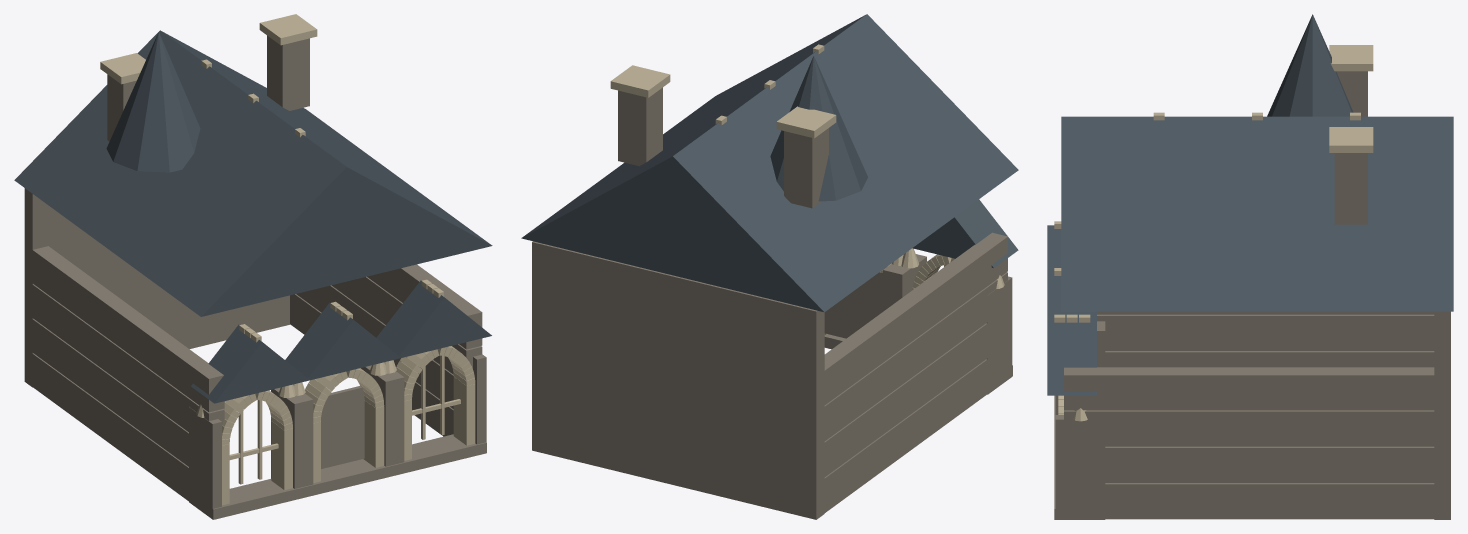
The model's file is HeartHouseA_LOD1.fbx.
The picture shows the model from 3 angles, left to right: view 1: azimuth 30°, elevation 25°; view 2: azimuth 150°, elevation 25°; view 3: azimuth 270°, elevation 25°; orthographic projection. The views are drawn at different scales.
Visible parts, largest first — view 1: HeartHouseA_LOD1; view 2: HeartHouseA_LOD1; view 3: HeartHouseA_LOD1.
Part boxes in pixels (x1,y1,x2,y2): HeartHouseA_LOD1: (14,14,492,519); HeartHouseA_LOD1: (521,14,1018,519); HeartHouseA_LOD1: (1047,14,1453,519).
Size of the model in its own units: 1280 by 1600 by 1470.
